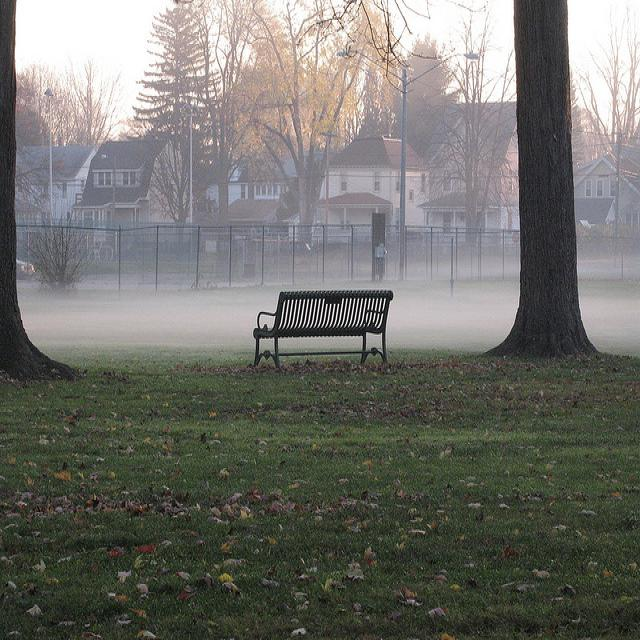Vehicle: (16, 258, 35, 280)
